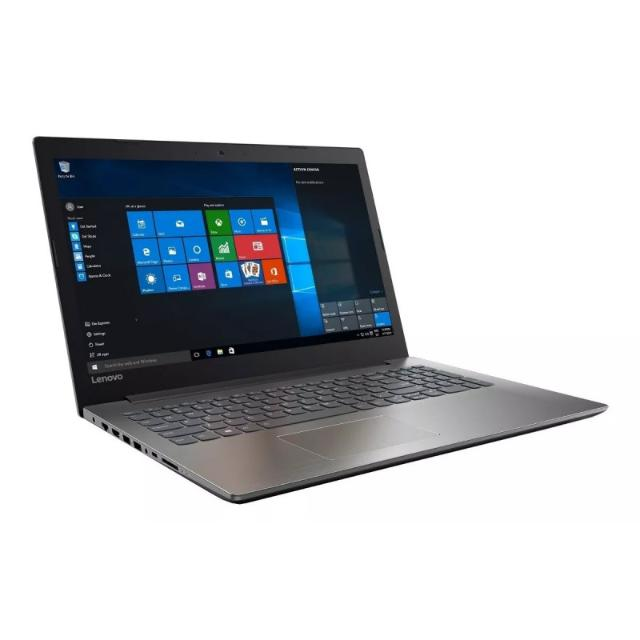Laptop: (27, 123, 628, 491)
